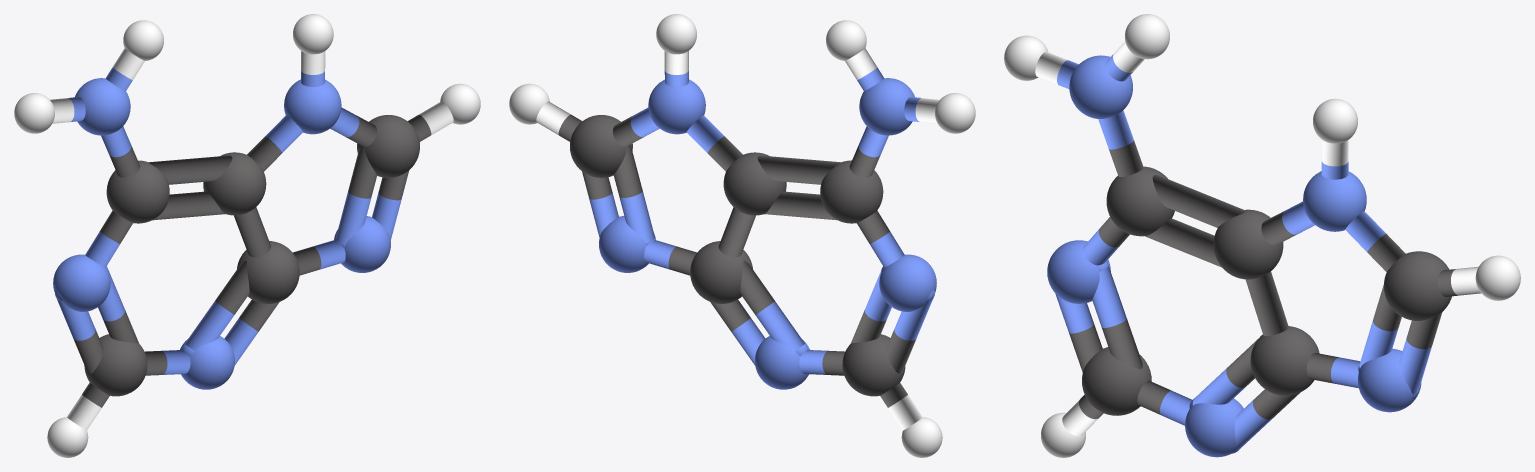
Rendered from molecule.gltf.
3 views of the same model, side by side, from view 1: azimuth 30°, elevation 25°; view 2: azimuth 150°, elevation 25°; view 3: azimuth 330°, elevation 25° (orthographic). The views are drawn at different scales.
Size of the model in its own units: 6.59 by 5.67 by 0.7828.
